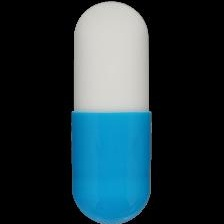51285-554: (0, 0, 224, 224)
